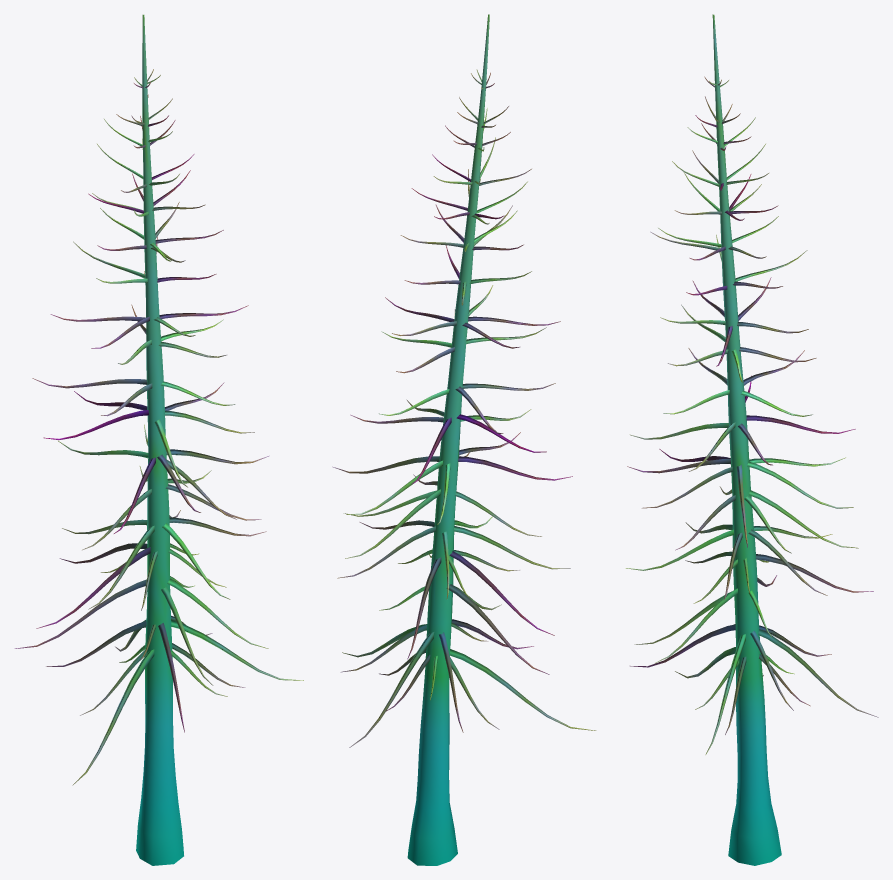
Rendered from spruce-grove-b.glb.
The picture shows the model from 3 angles, left to right: view 1: azimuth 30°, elevation 25°; view 2: azimuth 150°, elevation 25°; view 3: azimuth 270°, elevation 25°; orthographic projection. The views are drawn at different scales.
Visible parts, largest first — view 1: bark; view 2: bark; view 3: bark.
Boxes of the visible parts, <box> form: bark: <box>14,14,303,865</box>; bark: <box>332,14,596,865</box>; bark: <box>625,14,878,865</box>.
Bounding box in the file's own units: 6.54 × 21.42 × 5.97.
